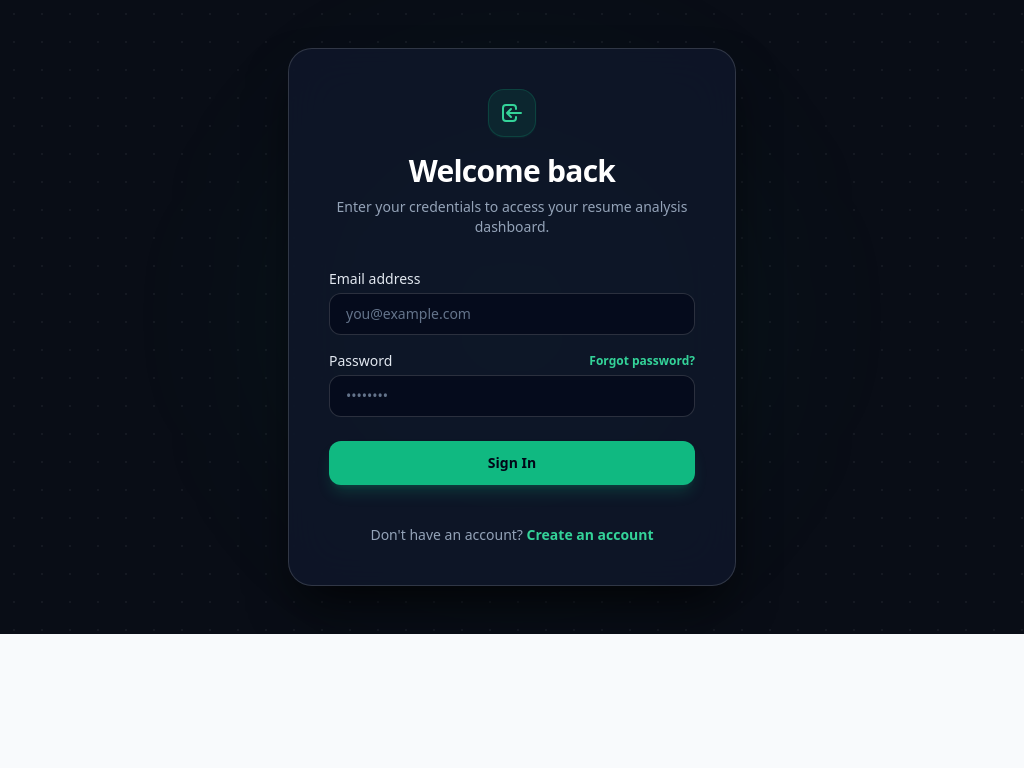
it: Login Component › shows validation error for invalid email format
Step 1. Type "notanemail" into the field labelled "Email address" → (512, 314), box [329, 293, 695, 335]
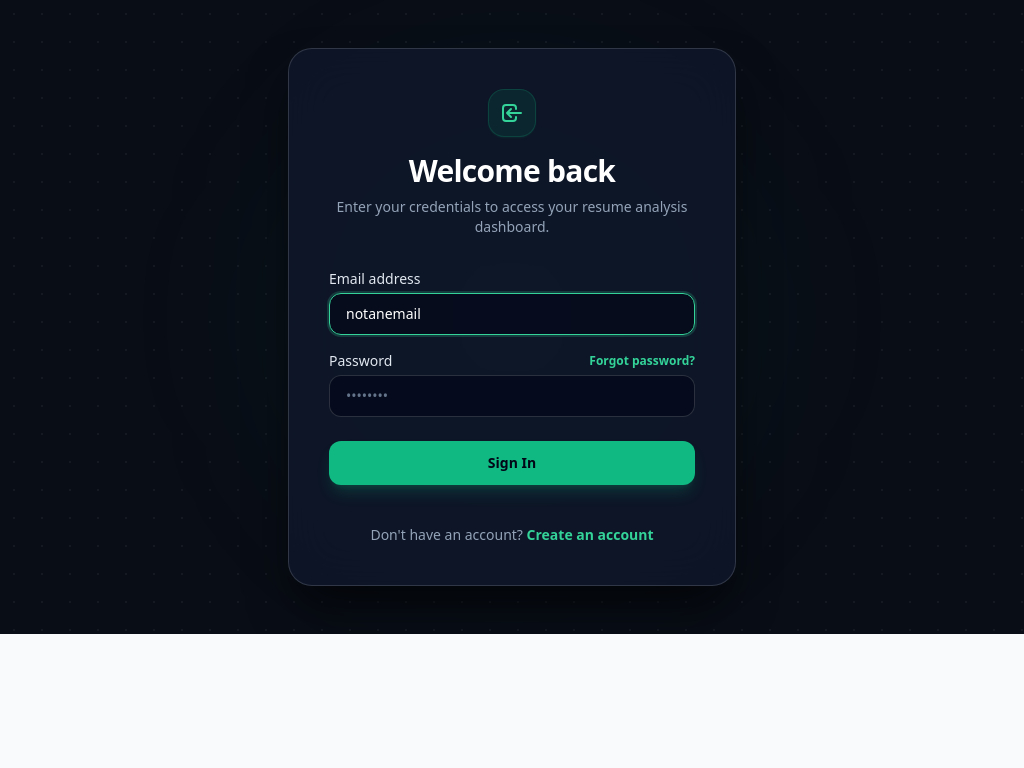
Step 2. Type "Password123!" into the password field labelled "Password" → (512, 396), box [329, 375, 695, 417]
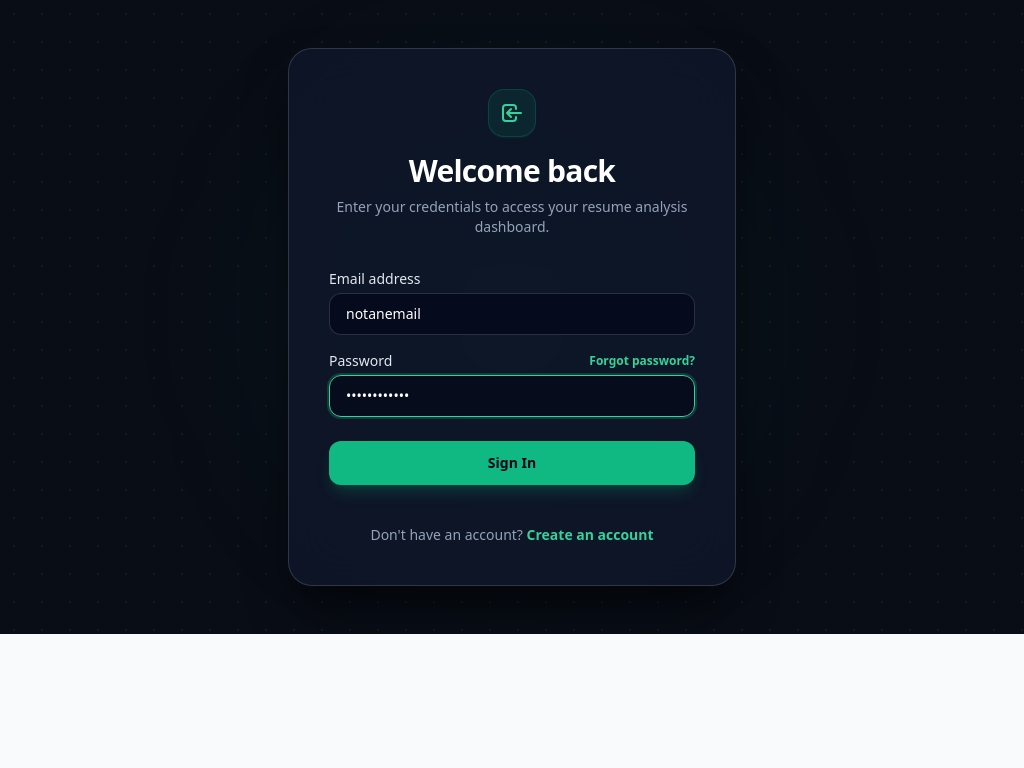
Step 3. Click the button "Sign In" → (512, 463), box [329, 441, 695, 485]
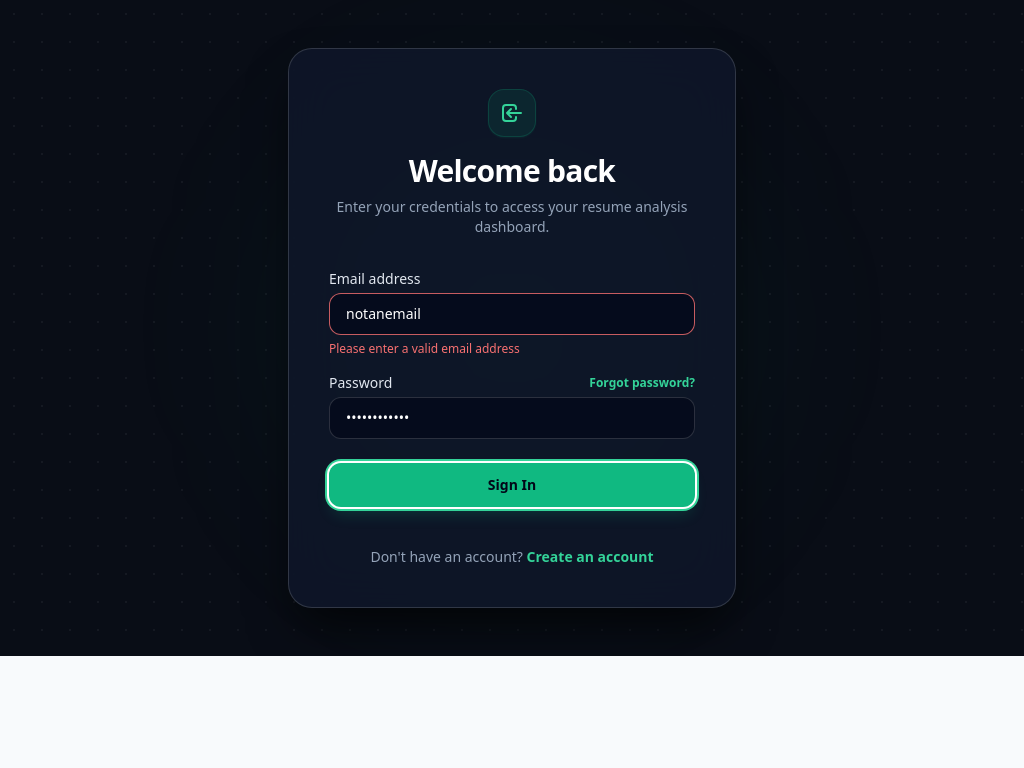
Now the text "Please enter a valid email address" is shown, box [329, 340, 520, 357]
